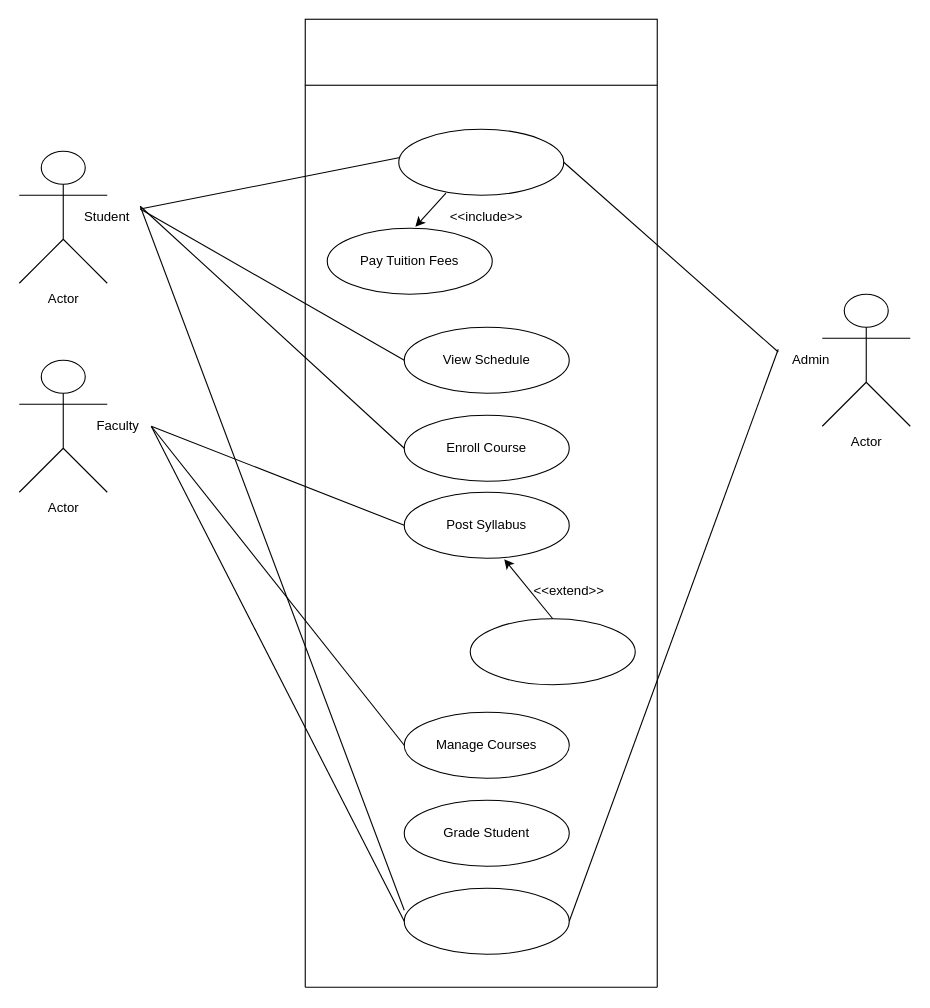
Some shapes in this 930 by 1008 pixel diagram are drawn without their labels. Here are the shapes that lost their labels. From the top down, the centre of each, then its label:
At (x=480, y=51): "University Management System".
At (x=481, y=161): "Student Registration".
At (x=552, y=651): "Upload Course Materials".
At (x=486, y=920): "View Student Information".
